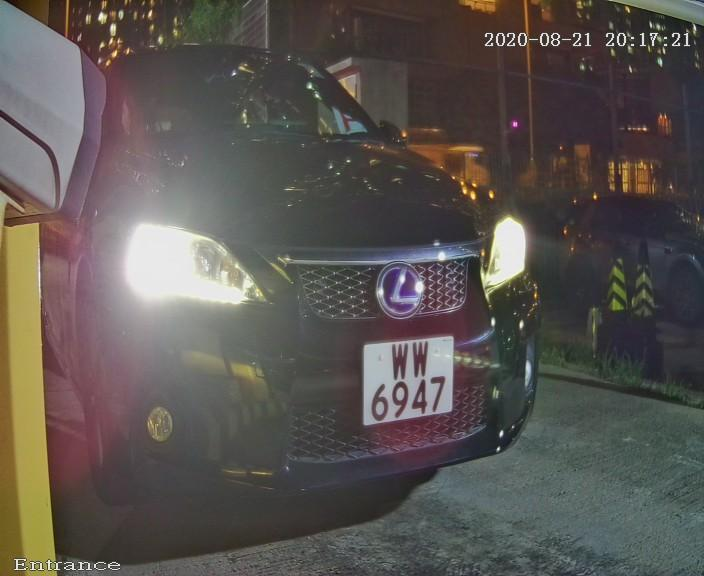Car: (1, 3, 582, 541)
License Plate: (353, 330, 466, 435)
